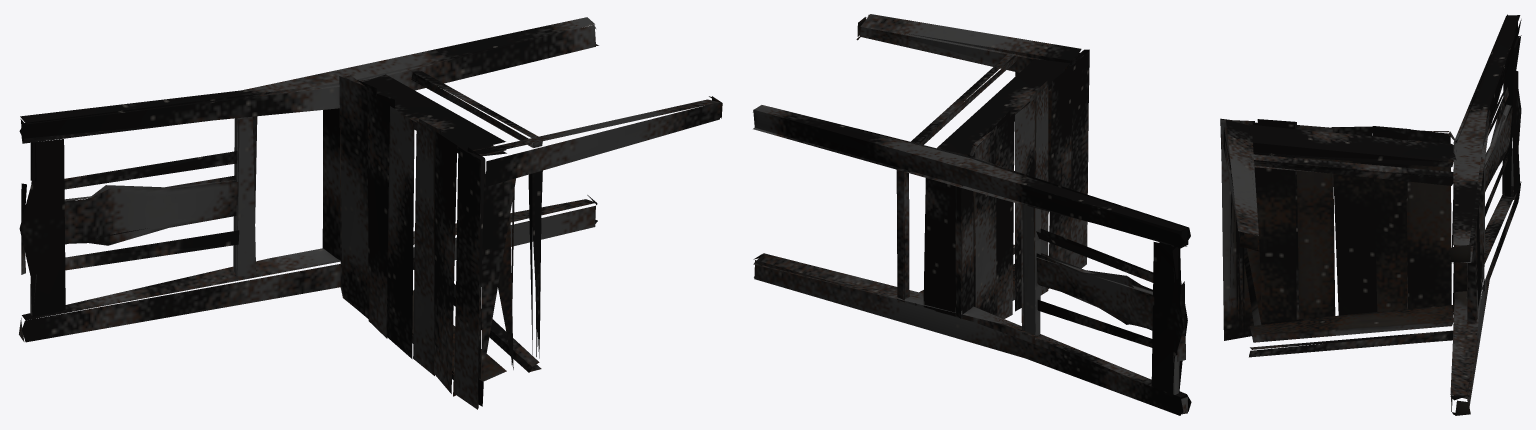
File: Chair_Wood_Burned.fbx
3 renders of one model, left to right at view 1: azimuth 30°, elevation 25°; view 2: azimuth 150°, elevation 25°; view 3: azimuth 270°, elevation 25°, orthographic. The views are drawn at different scales.
Parts seen in each view (by area): view 1: стул 313; view 2: стул 313; view 3: стул 313.
Part boxes in pixels (x1,y1,x2,y2): стул 313: (19, 17, 722, 409); стул 313: (753, 14, 1191, 415); стул 313: (1220, 14, 1521, 415).
Size of the model in its own units: 0.959 by 0.4388 by 0.5415.
1 material, 1 textured.
